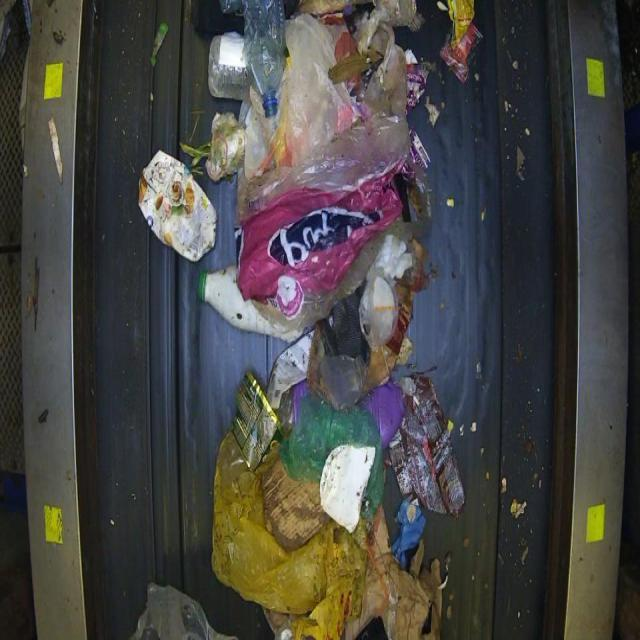cups: (206, 30, 250, 101)
other-trash: (139, 0, 479, 638)
